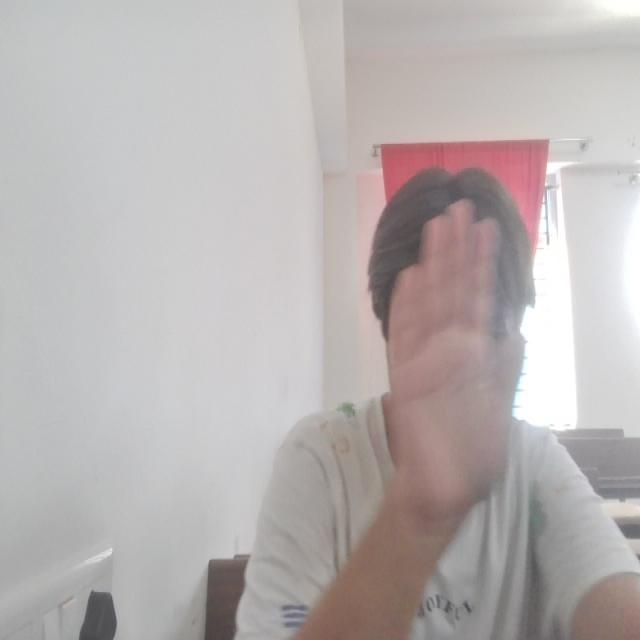hello: (384, 199, 528, 520)
